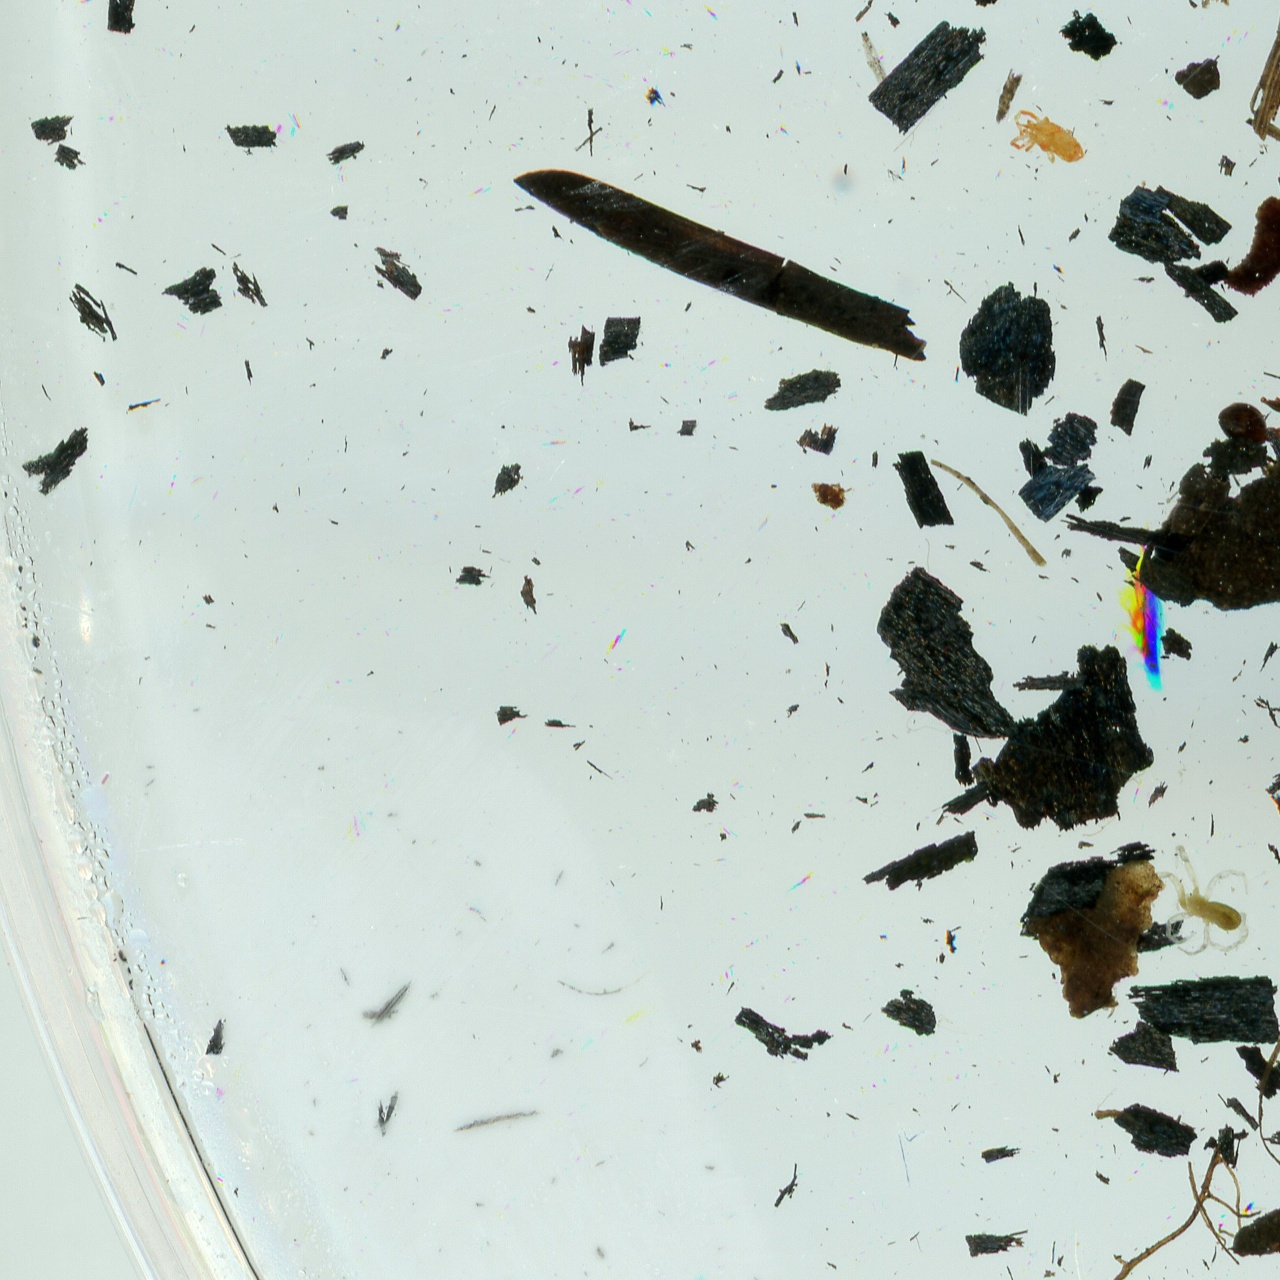arthropod: (1149, 842, 1257, 957), (1111, 540, 1170, 696), (997, 99, 1097, 182), (1214, 381, 1280, 473)
